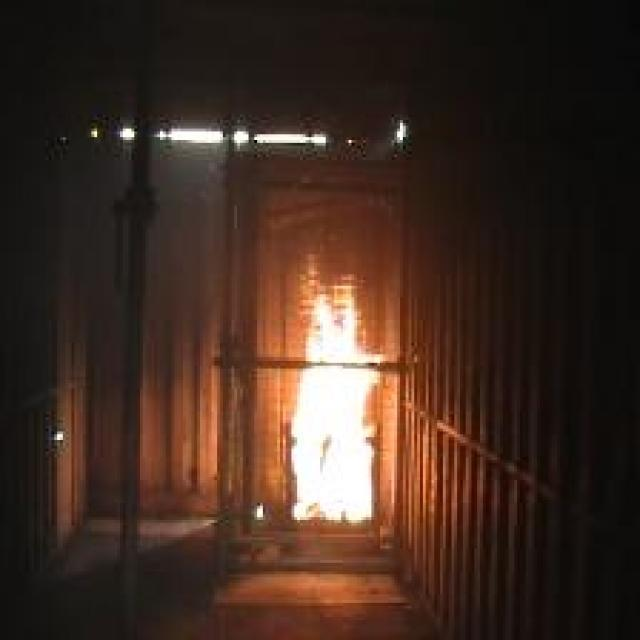Fire: (291, 256, 383, 522)
